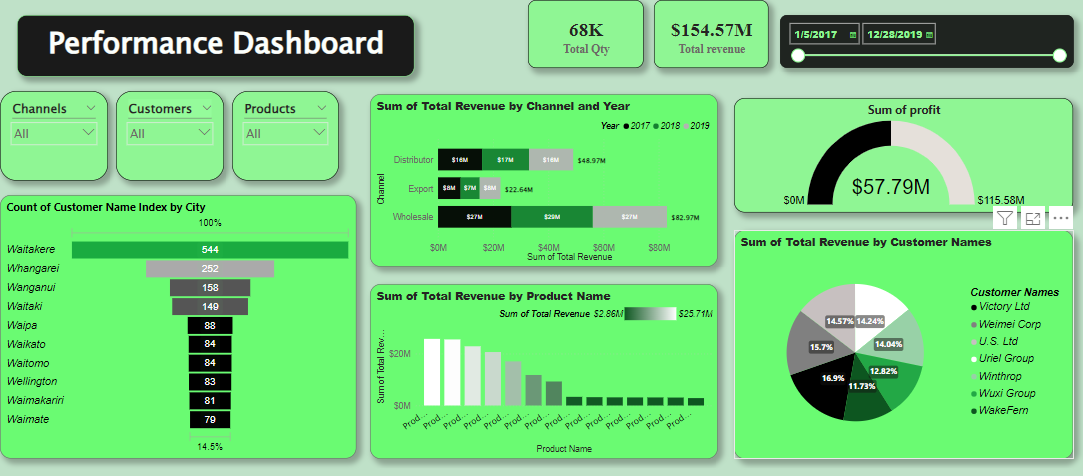

What the dashboard file says about the page in this screenshot:
{"tool":"powerbi","page":{"name":"Page 1","canvas":[2500,1000],"ordinal":0},"visuals":[{"type":"clusteredColumnChart","fields":{"Y":["Sum(Sales_Data.Total Revenue)"],"Category":["Products_Data.Product Name"]},"box":[686,526,644,324],"z":2000},{"type":"card","fields":{"Values":["Sum(Sales_Data.Total Revenue)"]},"box":[1212,0,212,126],"z":4000},{"type":"card","fields":{"Values":["Sum(Sales_Data.Order Quantity)"]},"box":[978,0,214,126],"z":5000},{"type":"gauge","fields":{"Y":["Sum(Sales_Data.profit)"]},"box":[1360,182,628,212],"z":6000},{"type":"slicer","fields":{"Values":["Sales_Data.Ship Date"]},"box":[1444,28,544,98],"z":7000},{"type":"slicer","fields":{"Values":["Products_Data.Product Name"]},"box":[430,168,198,166],"z":8000},{"type":"slicer","fields":{"Values":["Sales_Data.Channel"]},"box":[0,168,200,166],"z":9000},{"type":"slicer","fields":{"Values":["Customer_Data.Customer Names"]},"box":[214,168,200,166],"z":10000},{"type":"textbox","box":[32,28,736,114],"z":11000},{"type":"pieChart","fields":{"Category":["Customer_Data.Customer Names"],"Y":["Sum(Sales_Data.Total Revenue)"]},"box":[1360,426,628,424],"z":11001},{"type":"barChart","fields":{"Series":["Sales_Data.Ship Date.Variation.Date Hierarchy.Year"],"Category":["Sales_Data.Channel"],"Y":["Sum(Sales_Data.Total Revenue)"]},"box":[686,174,644,320],"z":11002},{"type":"funnel","fields":{"Category":["Regions_Table.City"],"Y":["CountNonNull(Sales_Data.Customer Name Index)"]},"box":[0,362,660,488],"z":11003}]}

Visuals, with their boxes on the page's 2500x1000 design canvas (x1, y1, x2, y2). These are canvas units, not pixel positions in the 1083x476 screenshot, which may show the page scaled, cropped or inside an application window:
clusteredColumnChart - Sum(Sales_Data.Total Revenue) x Products_Data.Product Name: 686,526,1330,850
card - Sum(Sales_Data.Total Revenue): 1212,0,1424,126
card - Sum(Sales_Data.Order Quantity): 978,0,1192,126
gauge - Sum(Sales_Data.profit): 1360,182,1988,394
slicer - Sales_Data.Ship Date: 1444,28,1988,126
slicer - Products_Data.Product Name: 430,168,628,334
slicer - Sales_Data.Channel: 0,168,200,334
slicer - Customer_Data.Customer Names: 214,168,414,334
textbox: 32,28,768,142
pieChart - Customer_Data.Customer Names x Sum(Sales_Data.Total Revenue): 1360,426,1988,850
barChart - Sales_Data.Ship Date.Variation.Date Hierarchy.Year x Sales_Data.Channel: 686,174,1330,494
funnel - Regions_Table.City x CountNonNull(Sales_Data.Customer Name Index): 0,362,660,850
